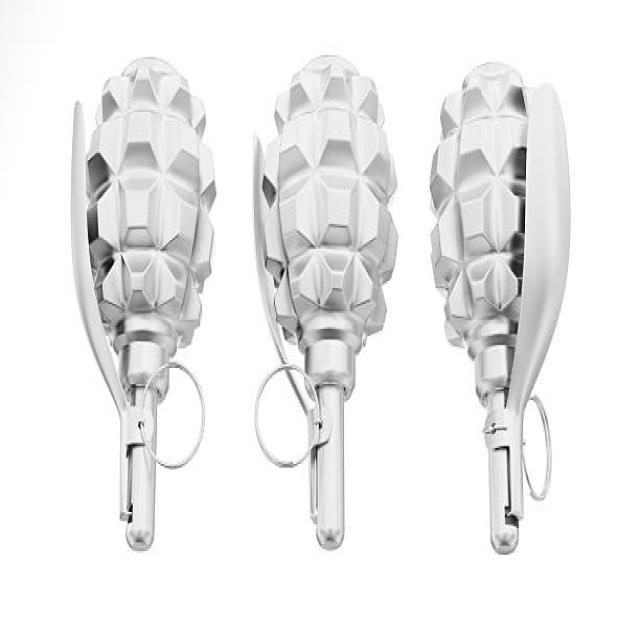grenade: (242, 51, 401, 554), (66, 53, 222, 559), (430, 57, 574, 559)
